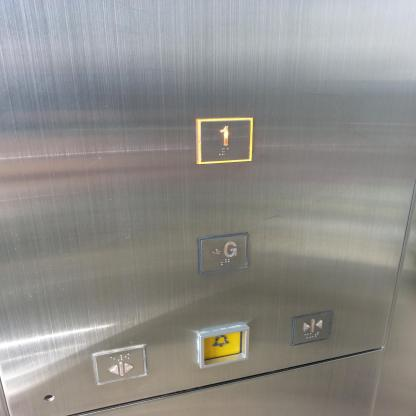1: (194, 116, 254, 166)
alarm: (195, 323, 252, 371)
close: (289, 308, 334, 347)
open: (88, 342, 150, 388)
sG: (196, 232, 250, 276)
